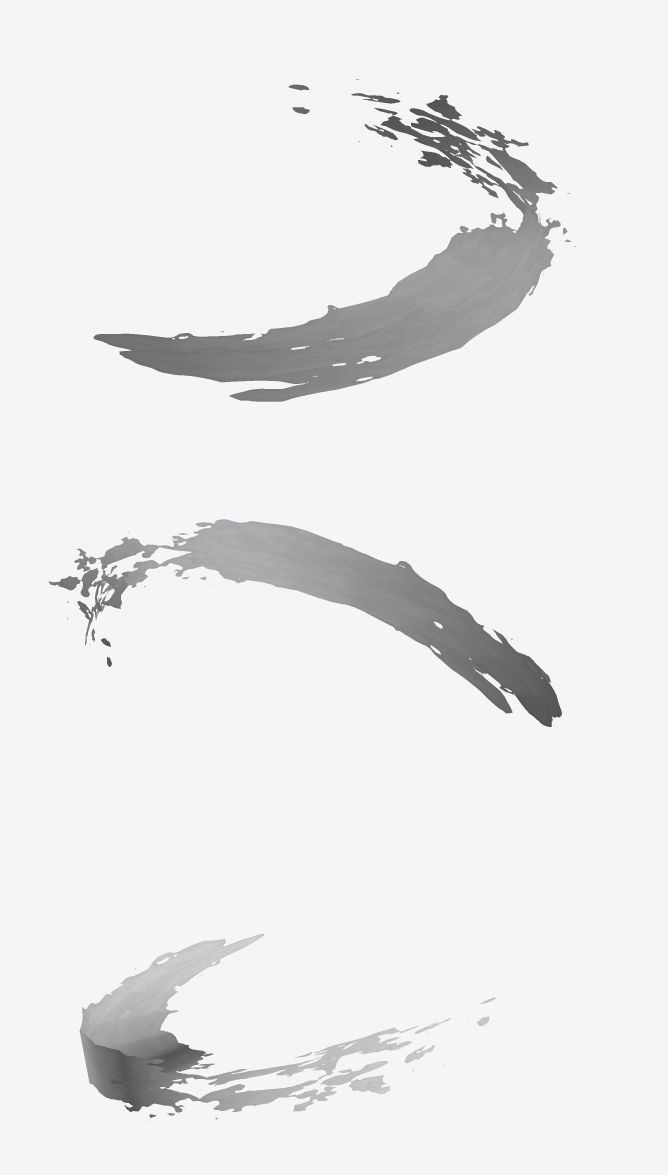
The model's file is yuanquan.fbx.
3 views of the same model, one above another, from view 1: azimuth 30°, elevation 25°; view 2: azimuth 150°, elevation 25°; view 3: azimuth 270°, elevation 25° (orthographic). The views are drawn at different scales.
Parts seen in each view (by area): view 1: yuanquan; view 2: yuanquan; view 3: yuanquan.
Part boxes in pixels (x1=…): yuanquan: x1=93, y1=79, x2=575, y2=401; yuanquan: x1=48, y1=519, x2=561, y2=726; yuanquan: x1=79, y1=933, x2=495, y2=1120.
Size of the model in its own units: 3.44 by 1.39 by 3.27.
1 material, 1 textured.
